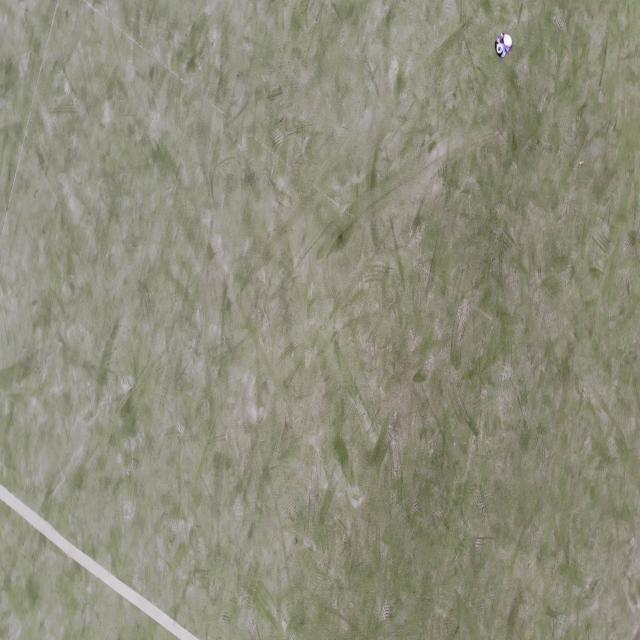rubbish: (495, 32, 514, 59)
